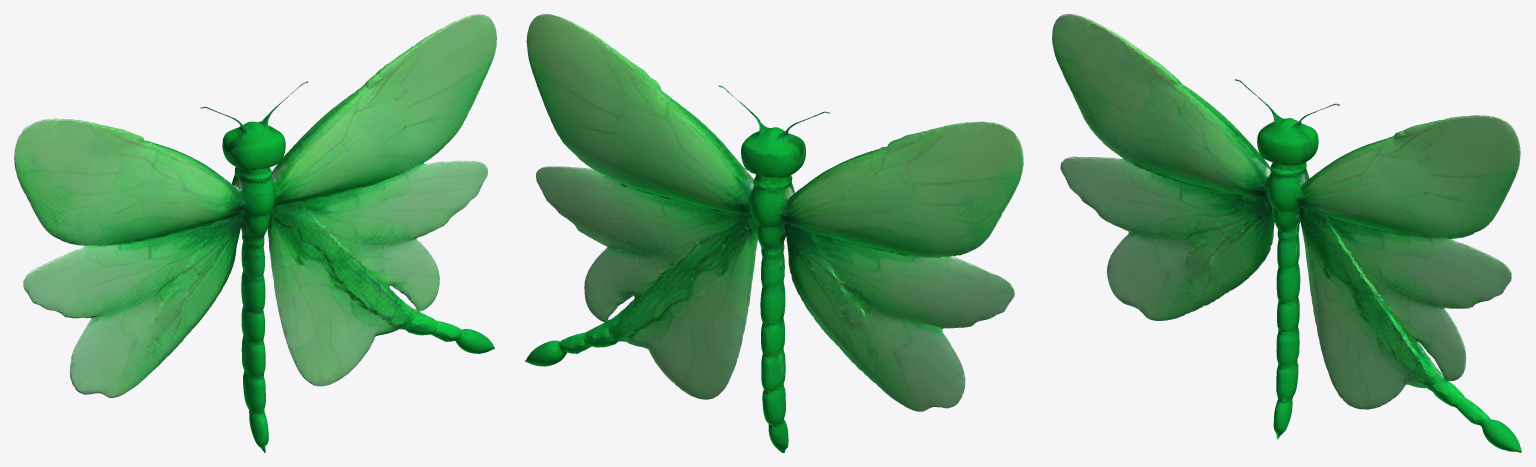
File: mantis_wing_L.glb
3 renders of one model, left to right at view 1: azimuth 30°, elevation 25°; view 2: azimuth 150°, elevation 25°; view 3: azimuth 330°, elevation 25°, orthographic. The views are drawn at different scales.
Parts seen in each view (by area): view 1: mantis_wing_L; view 2: mantis_wing_L; view 3: mantis_wing_L.
Part boxes in pixels (x1=…): mantis_wing_L: x1=14, y1=14, x2=496, y2=452; mantis_wing_L: x1=525, y1=14, x2=1023, y2=452; mantis_wing_L: x1=1052, y1=14, x2=1521, y2=452.
Bounding box in the file's own units: 1.89 × 1.42 × 0.1848.
1 material, 1 textured.
